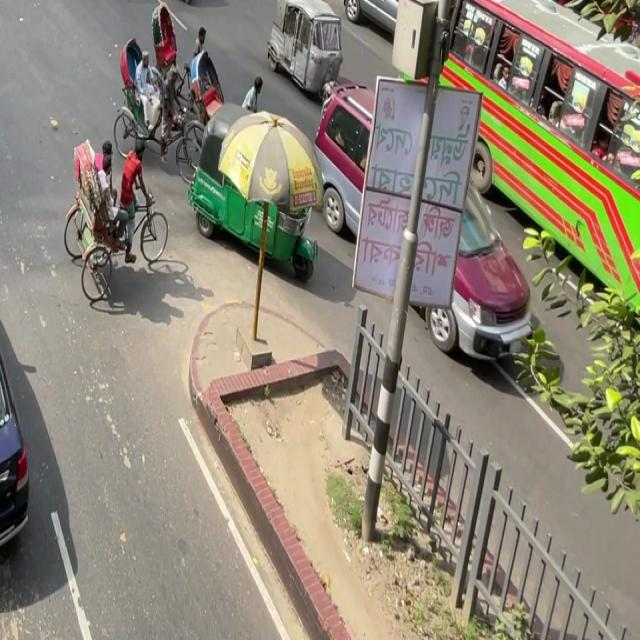car: (0, 230, 57, 584), (336, 0, 441, 46)
rickshaw: (180, 102, 329, 278), (261, 0, 352, 104), (144, 0, 202, 2)
